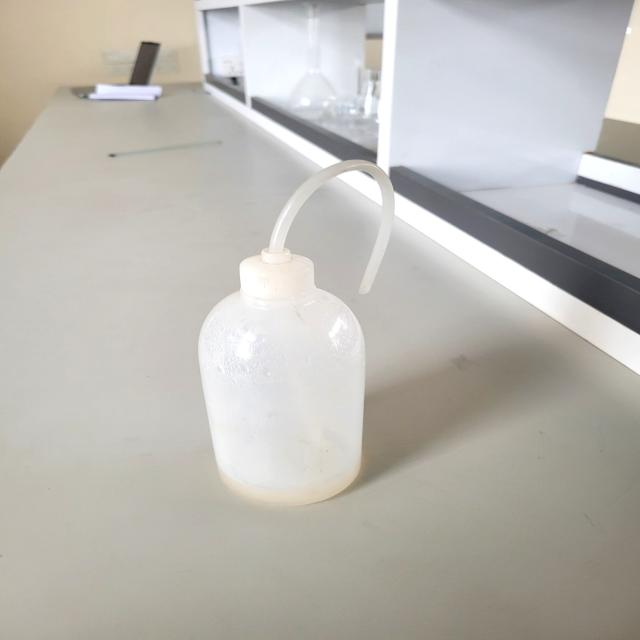Wash_Bottle: (186, 149, 425, 524)
